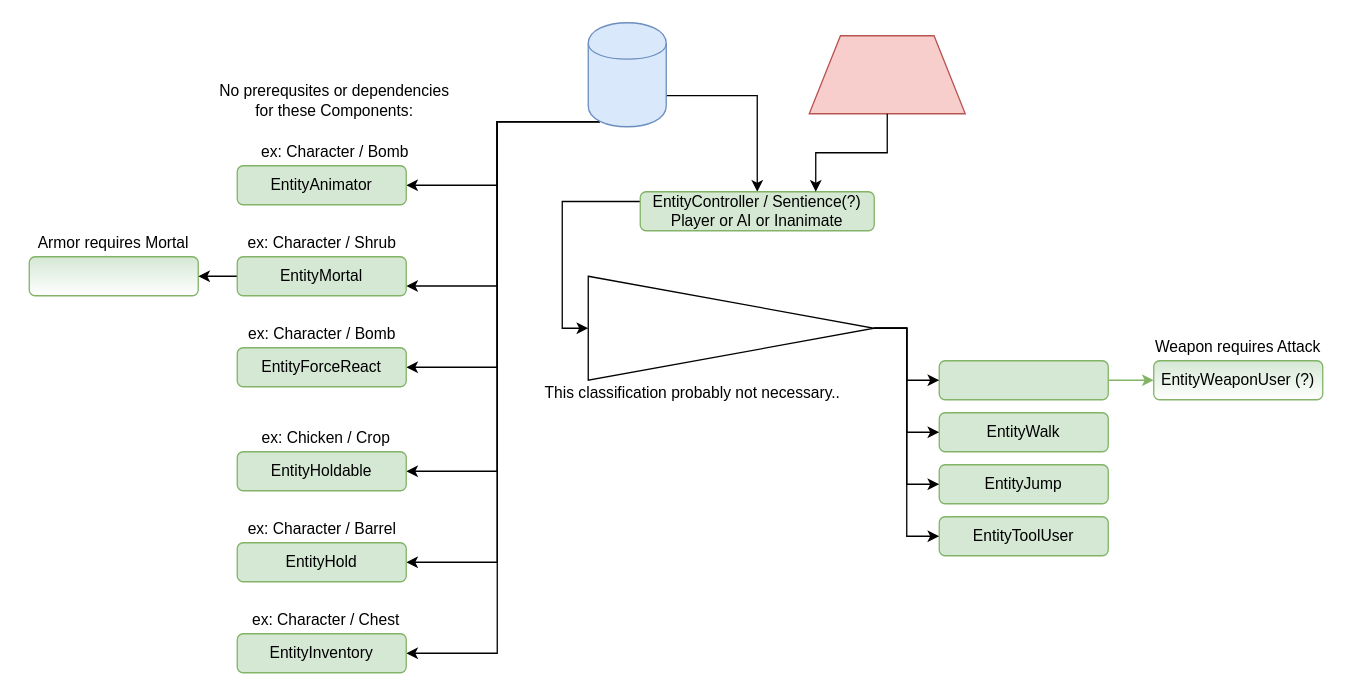
Image size: 1351x696. Some labels were removed from this diagram. The box of each missing label's shape, as (x1, y1, x2, y2) in pixels:
Entity prefab w/ Entity.cs: (587, 21, 666, 127)
EntityArmorUser (?): (28, 255, 198, 296)
EntityAttack: (938, 359, 1108, 400)
Player or AI Controller: (808, 34, 965, 114)
Player or AI Sentience required for:: (587, 275, 874, 380)
